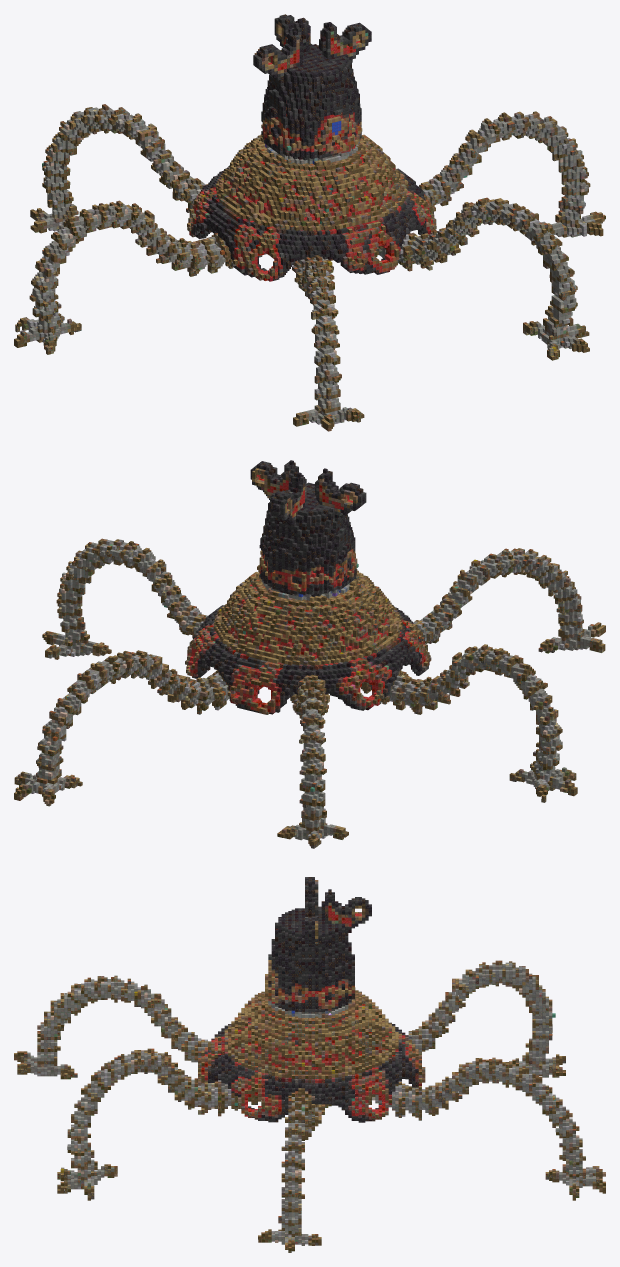
File: Guardian.glb
3 views of the same model, one above another, from view 1: azimuth 30°, elevation 25°; view 2: azimuth 150°, elevation 25°; view 3: azimuth 270°, elevation 25° (orthographic). The views are drawn at different scales.
Parts seen in each view (by area): view 1: FlatWorld__-1956_-60_968_to_-1769_37_1150; view 2: FlatWorld__-1956_-60_968_to_-1769_37_1150; view 3: FlatWorld__-1956_-60_968_to_-1769_37_1150.
Part boxes in pixels (x1,y1,x2,y2): FlatWorld__-1956_-60_968_to_-1769_37_1150: (14, 14, 605, 431); FlatWorld__-1956_-60_968_to_-1769_37_1150: (14, 460, 605, 848); FlatWorld__-1956_-60_968_to_-1769_37_1150: (14, 877, 605, 1252).
Bounding box in the file's own units: 181 × 79 × 177.
173 materials, 173 textured.
